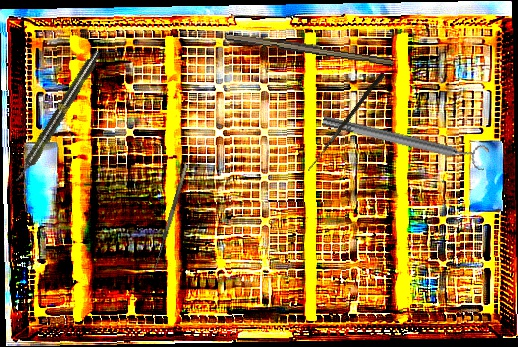Fixation Ring: (320, 106, 490, 173)
Handpiece: (11, 48, 104, 185)
Hook Surgical: (307, 70, 386, 175), (151, 163, 195, 275)
Scalpel Handle: (223, 30, 395, 67)
